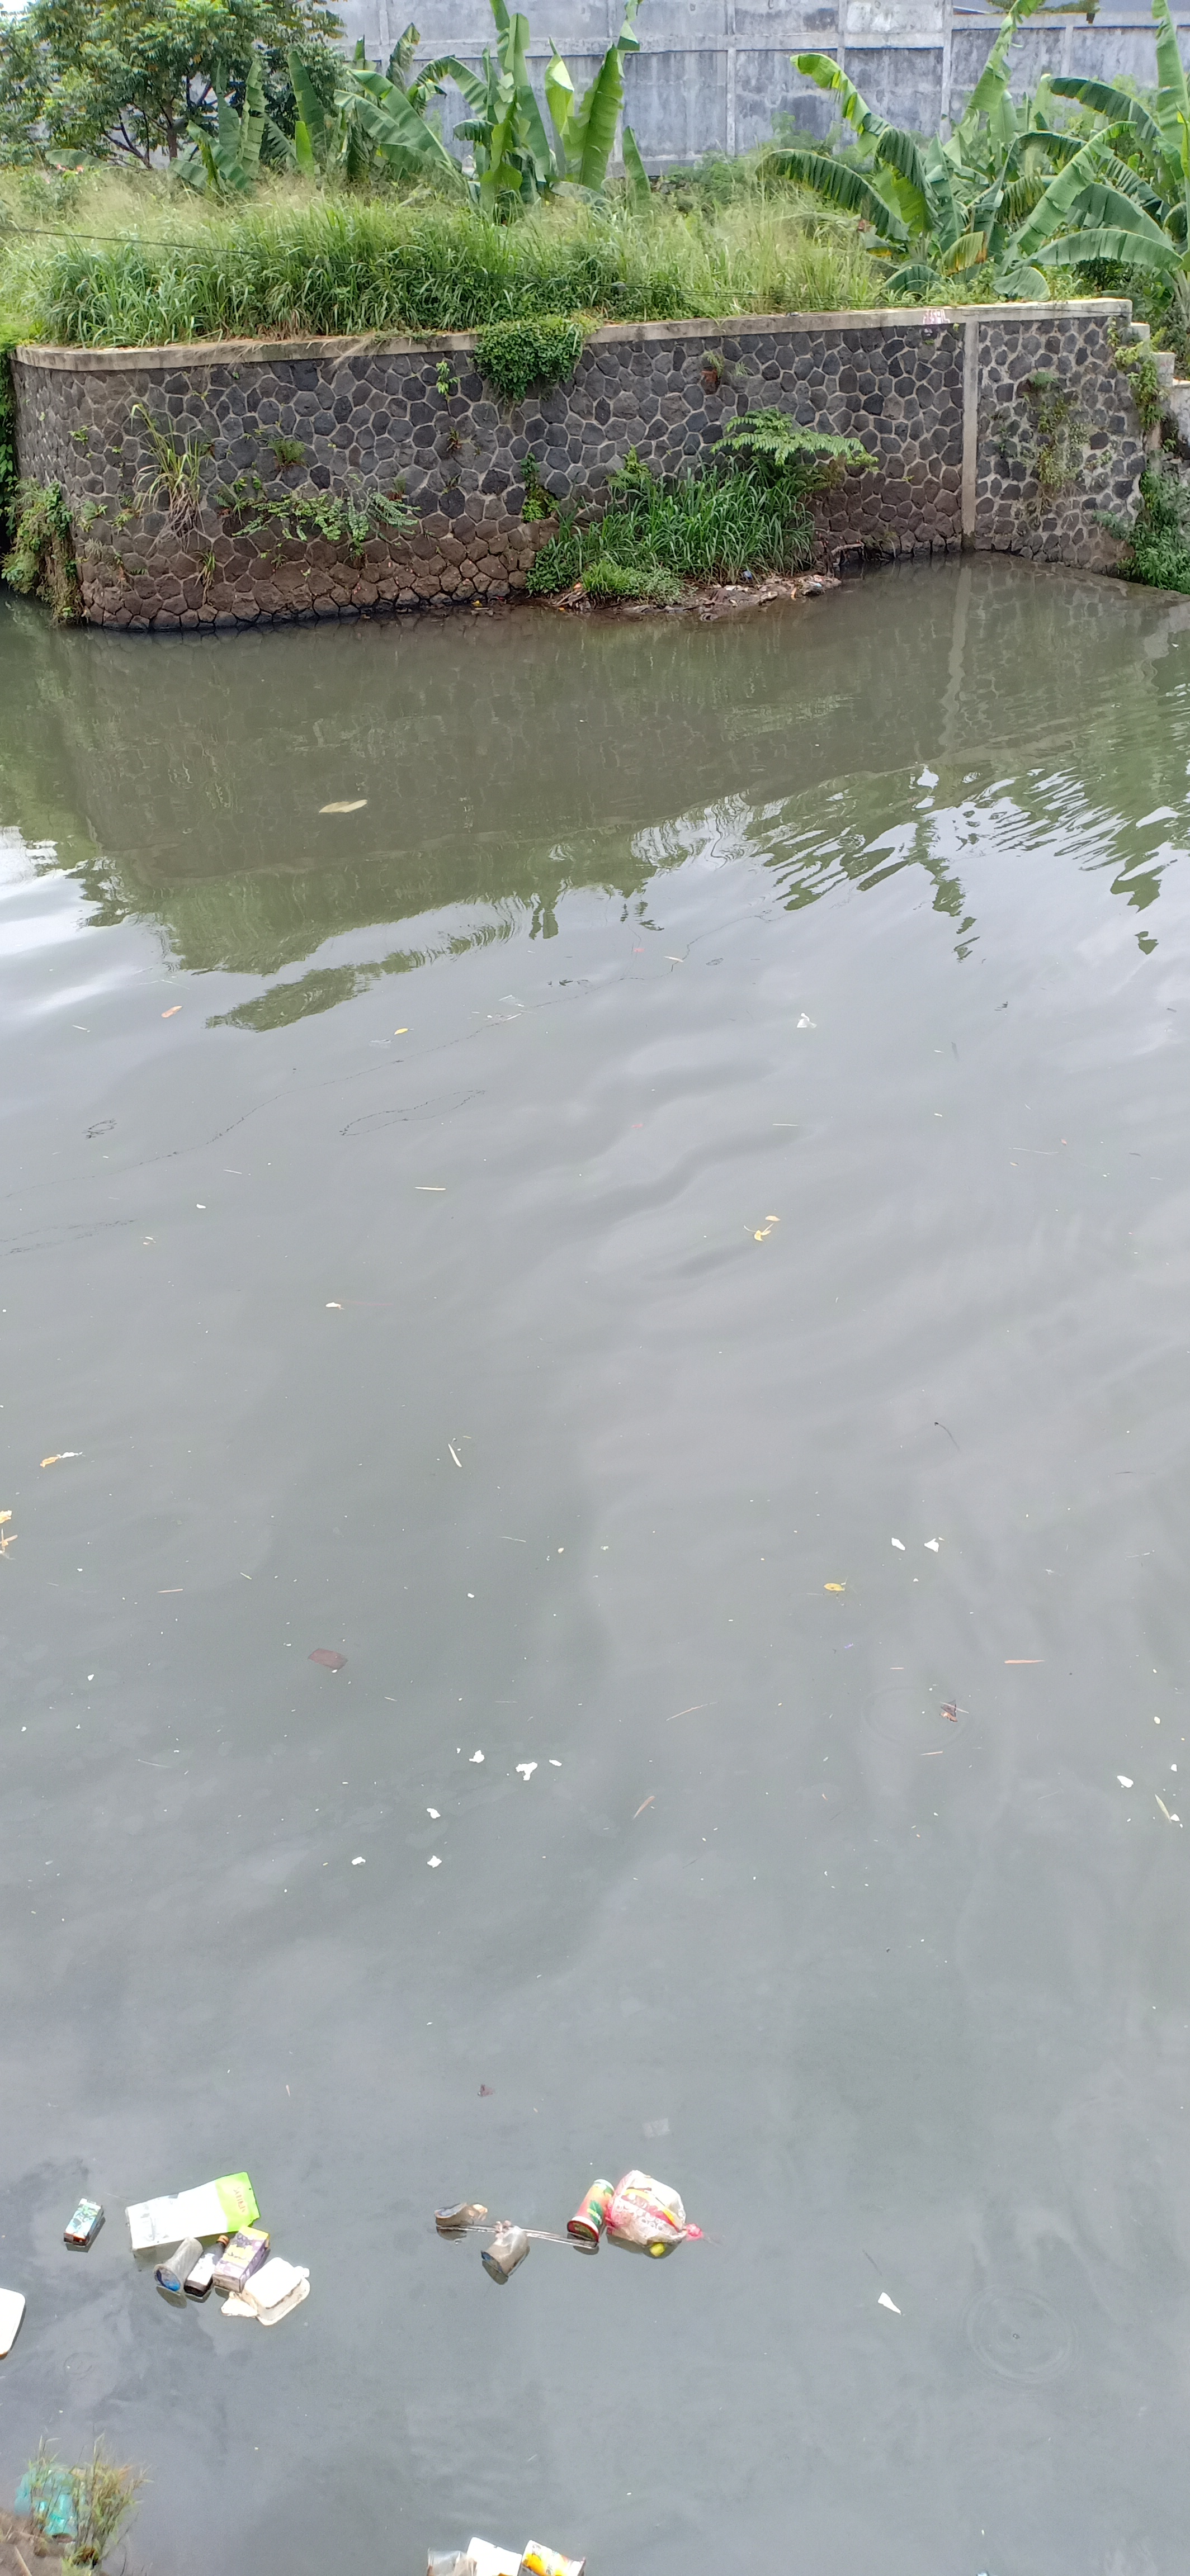Plastic Bottle: (184, 2234, 228, 2297), (470, 600, 483, 606)
